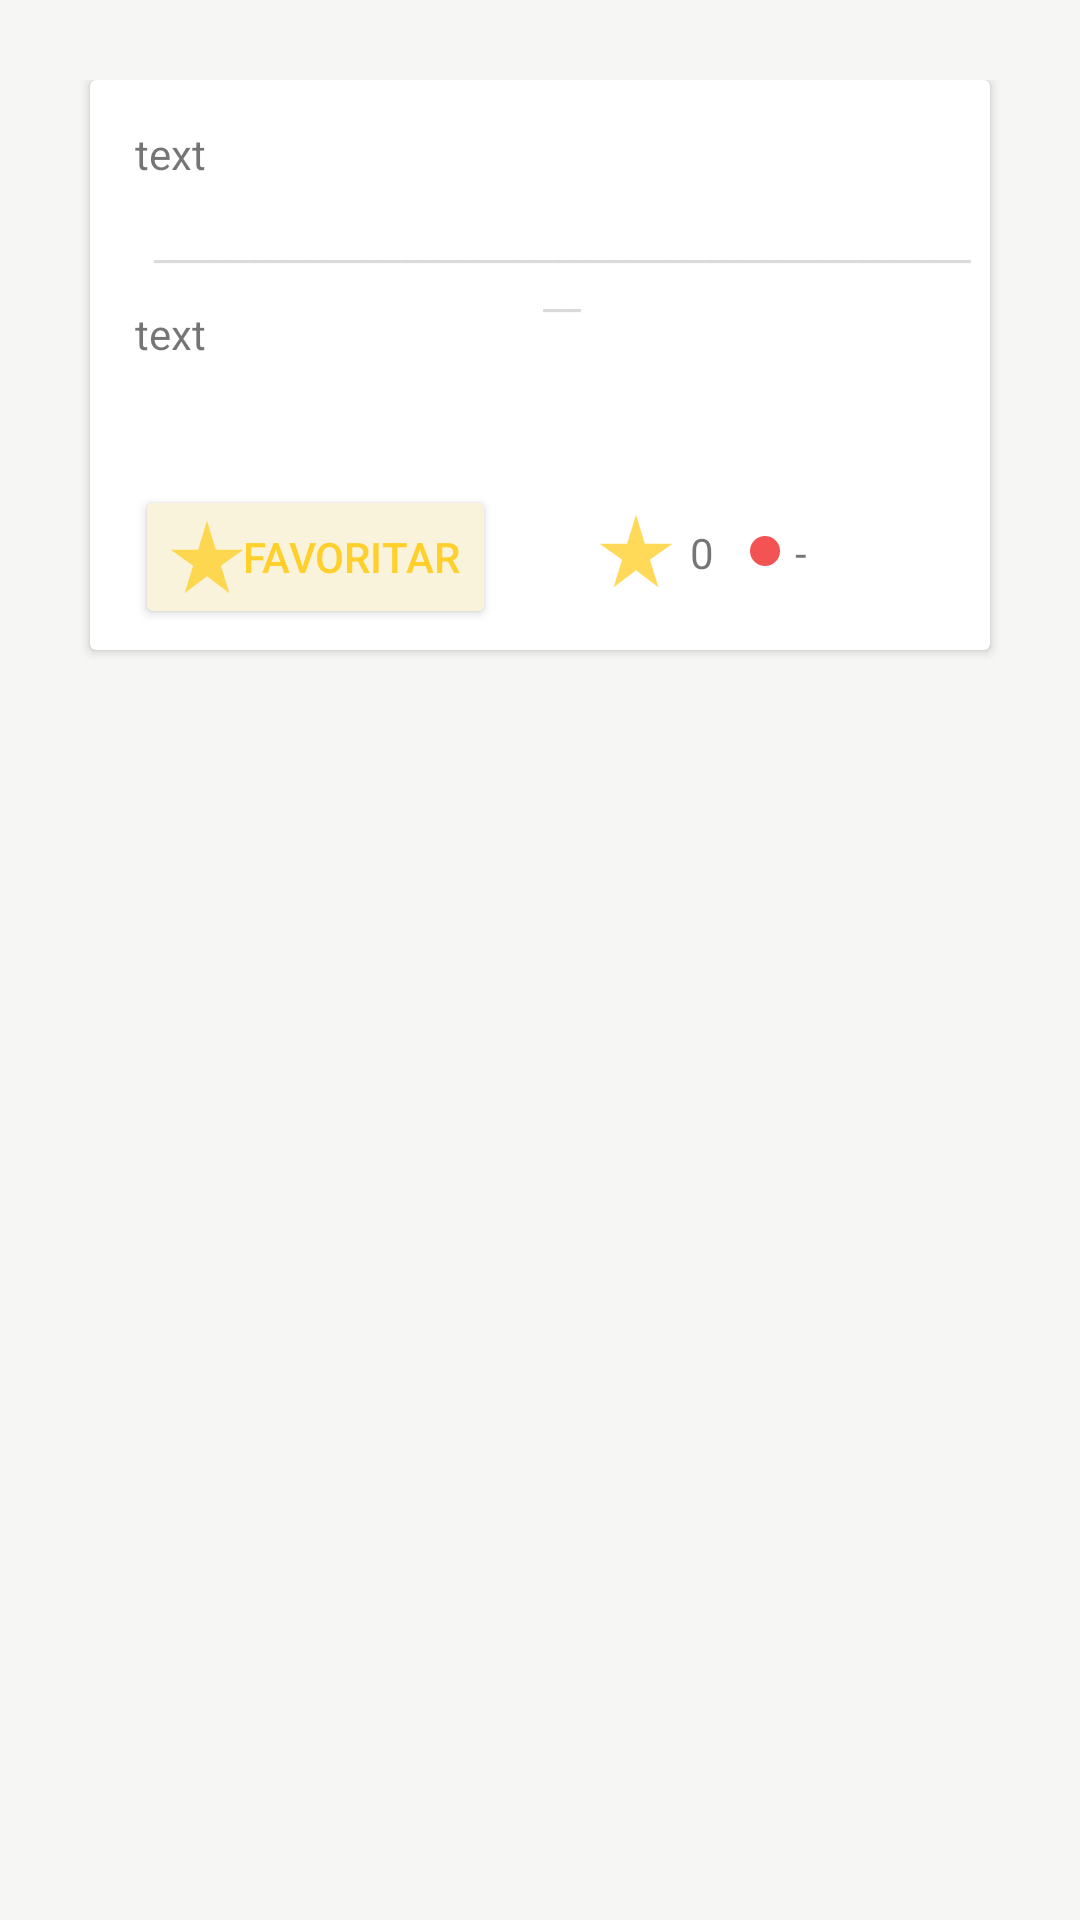

Icon bounding boxes for this 1080px x 1920px phone screenshot, format (x1, y1, x2, y2):
star: (600, 515, 672, 587)
